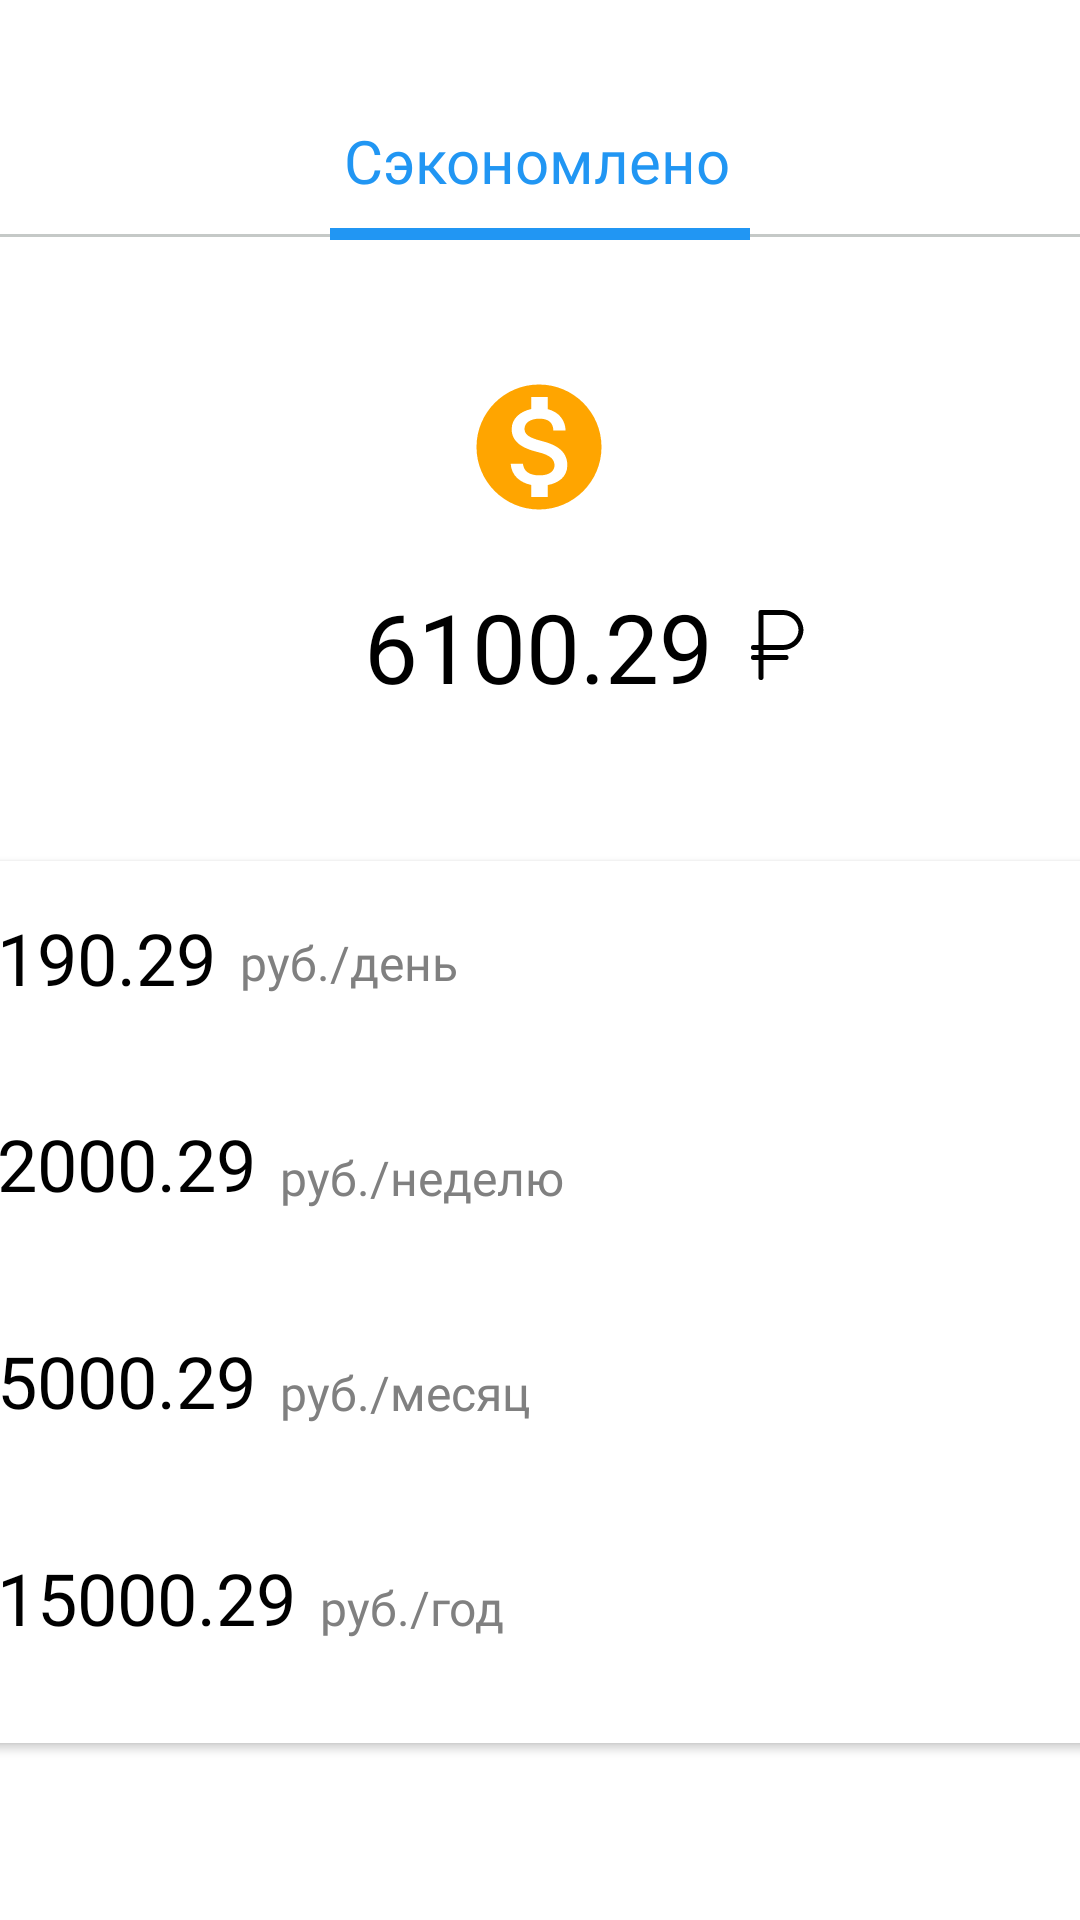

Icon bounding boxes for this 1080w x 1920h phone screenshot, format bbox=(x1, y1, x2, y2):
monetization on: bbox=(476, 384, 602, 510)
